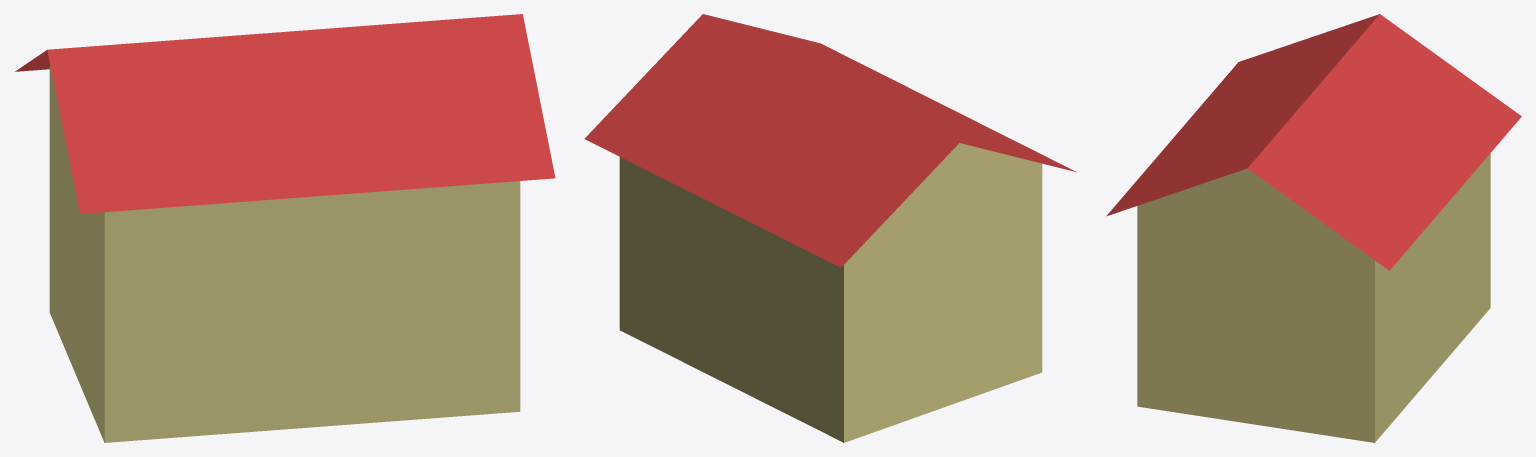
3 renders of one model, left to right at view 1: azimuth 30°, elevation 25°; view 2: azimuth 150°, elevation 25°; view 3: azimuth 270°, elevation 25°, orthographic. The views are drawn at different scales.
Bounding box in the file's own units: 19.19 × 17.05 × 12.03.
